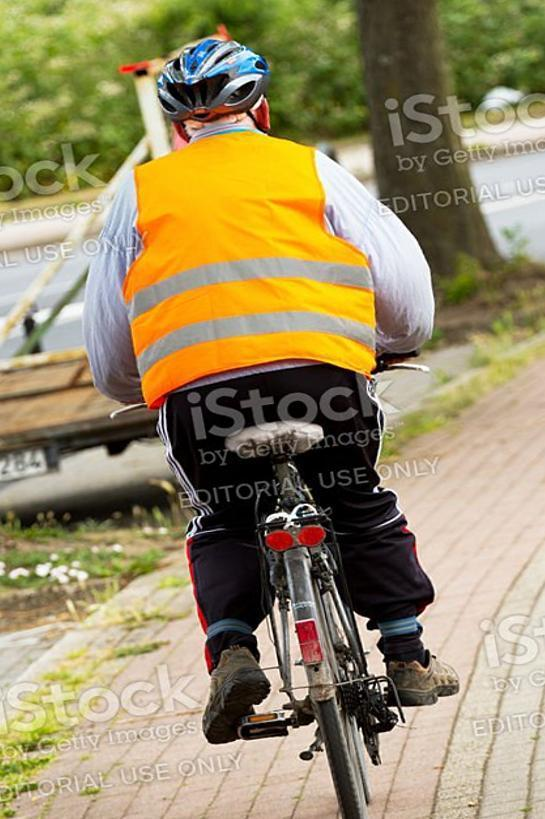Vest: (126, 132, 381, 378)
